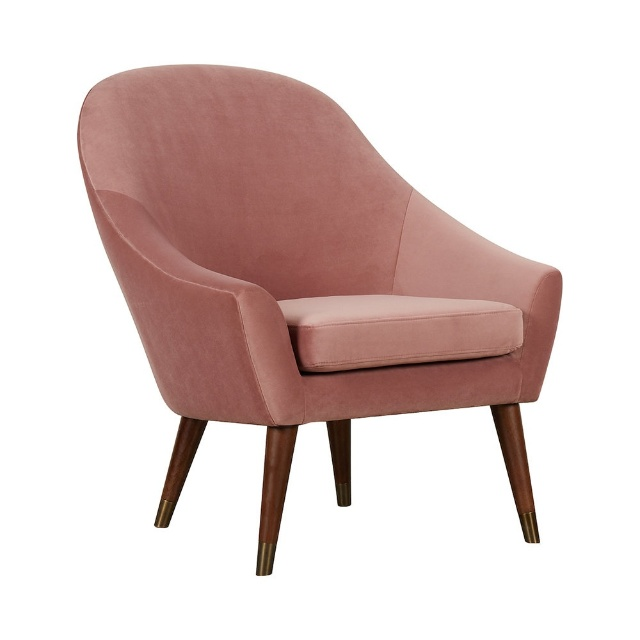obstacle: (78, 65, 561, 574)
